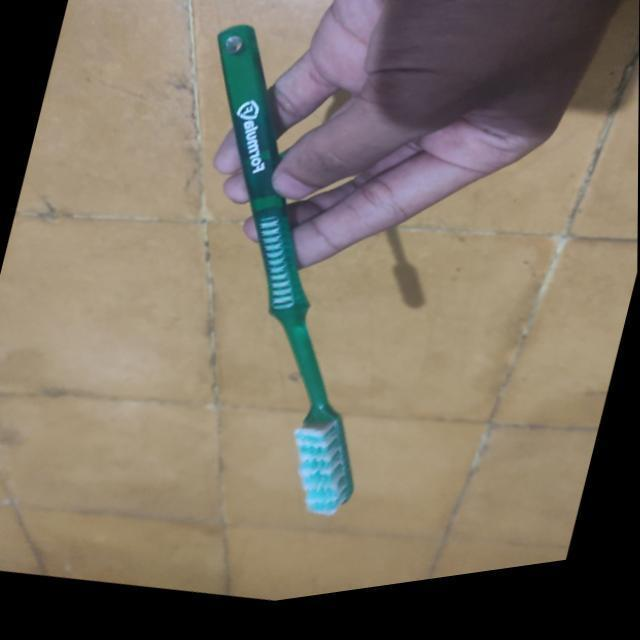toothbrush: (185, 7, 382, 545)
